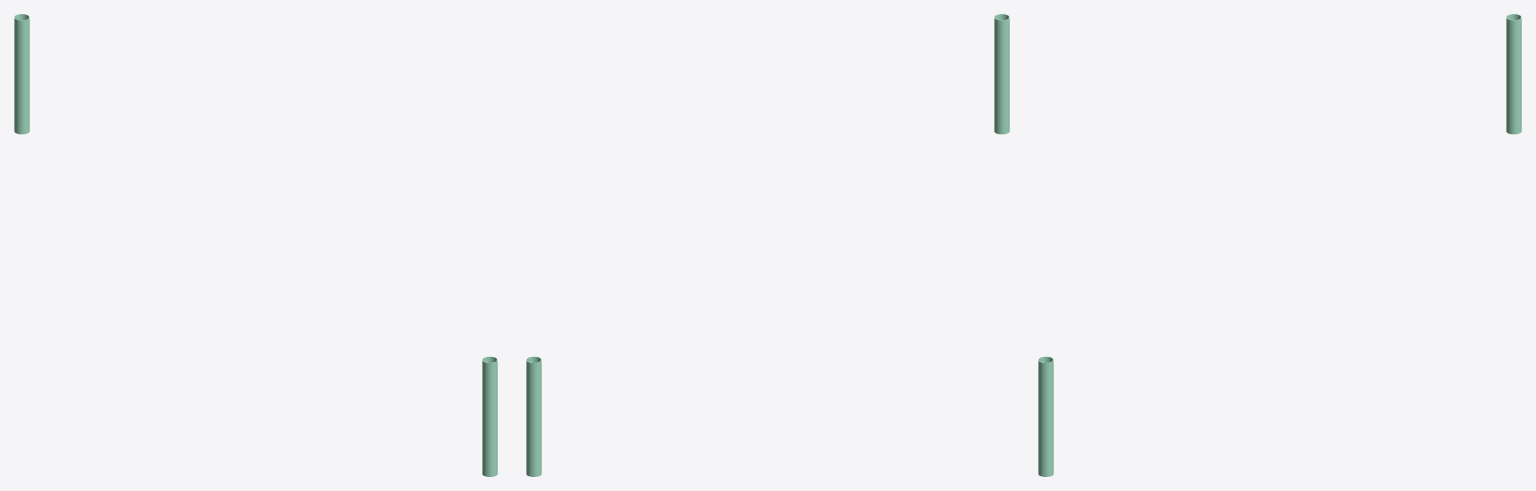
Rendered from PROPULSION__rudder assembly__Rudder tube__G10 tube 3_ OD X 2.75_ ID.glb.
3 renders of one model, left to right at view 1: azimuth 30°, elevation 25°; view 2: azimuth 150°, elevation 25°; view 3: azimuth 330°, elevation 25°, orthographic.
Parts seen in each view (by area): view 1: G10 tube 3" OD X 2.75" ID; view 2: G10 tube 3" OD X 2.75" ID; view 3: G10 tube 3" OD X 2.75" ID.
Boxes of the visible parts, x1,y1,x2,y2 form: G10 tube 3" OD X 2.75" ID: [14, 14, 497, 476]; G10 tube 3" OD X 2.75" ID: [526, 14, 1009, 476]; G10 tube 3" OD X 2.75" ID: [1038, 14, 1521, 476].
Size of the model in its own units: 0.0762 by 0.6137 by 4.65.
